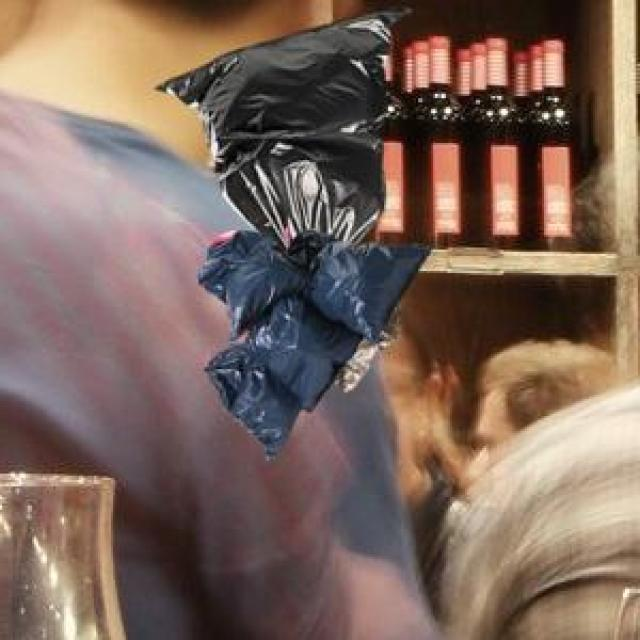Trashbag: (201, 230, 298, 320), (315, 243, 412, 329), (206, 350, 282, 454), (262, 310, 350, 394)
